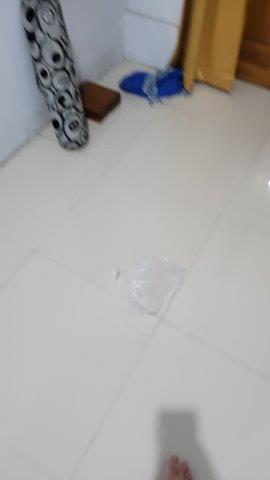plastik: (107, 257, 186, 316)
